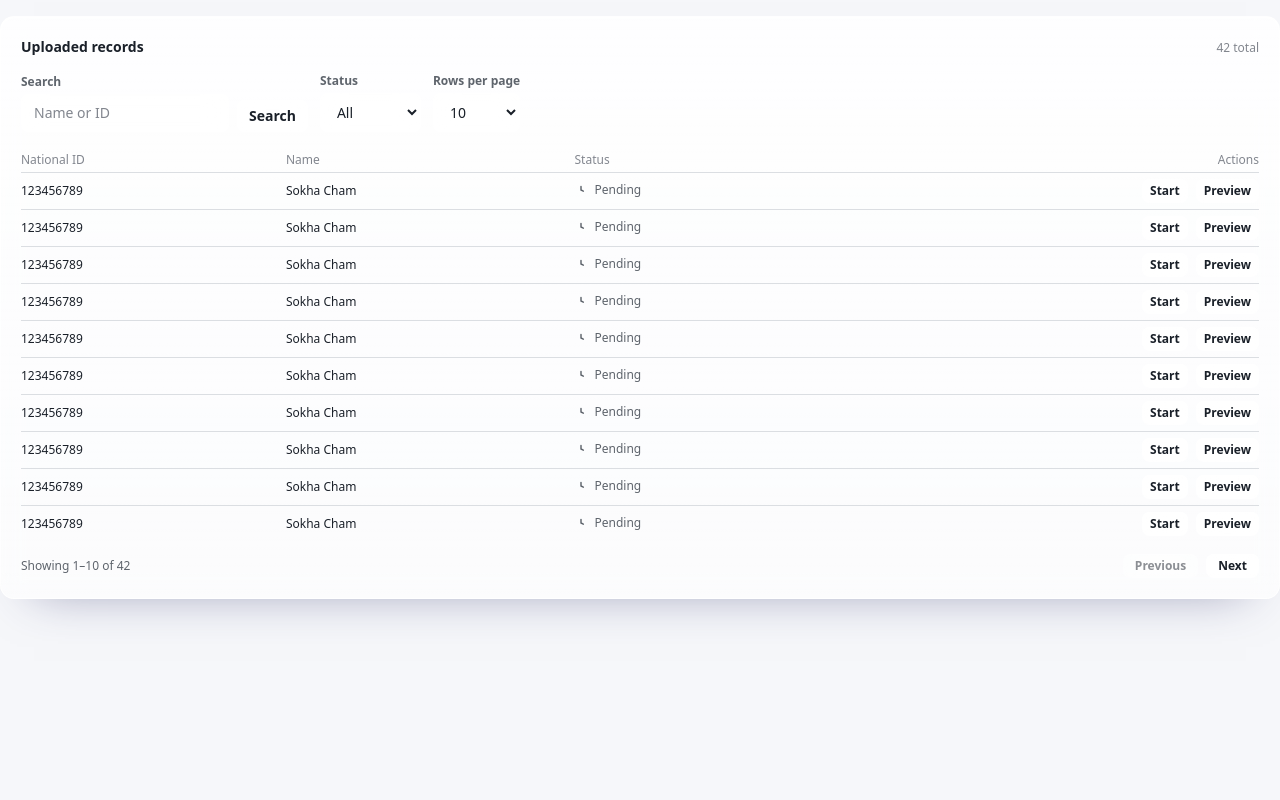
Test: UploadedRecordsList › pages through the server and says which slice is shown
The image size is (1280, 800).
Check: the text "Showing 1–10 of 42" is shown, box [21,558,130,574]
Check: the button "Previous" is disabled, box [1123,554,1198,578]
What coordinates should you click on to do the following:
click the button "Next"
I would click on:
 (1233, 566)
Its box is [1206,554,1259,578].
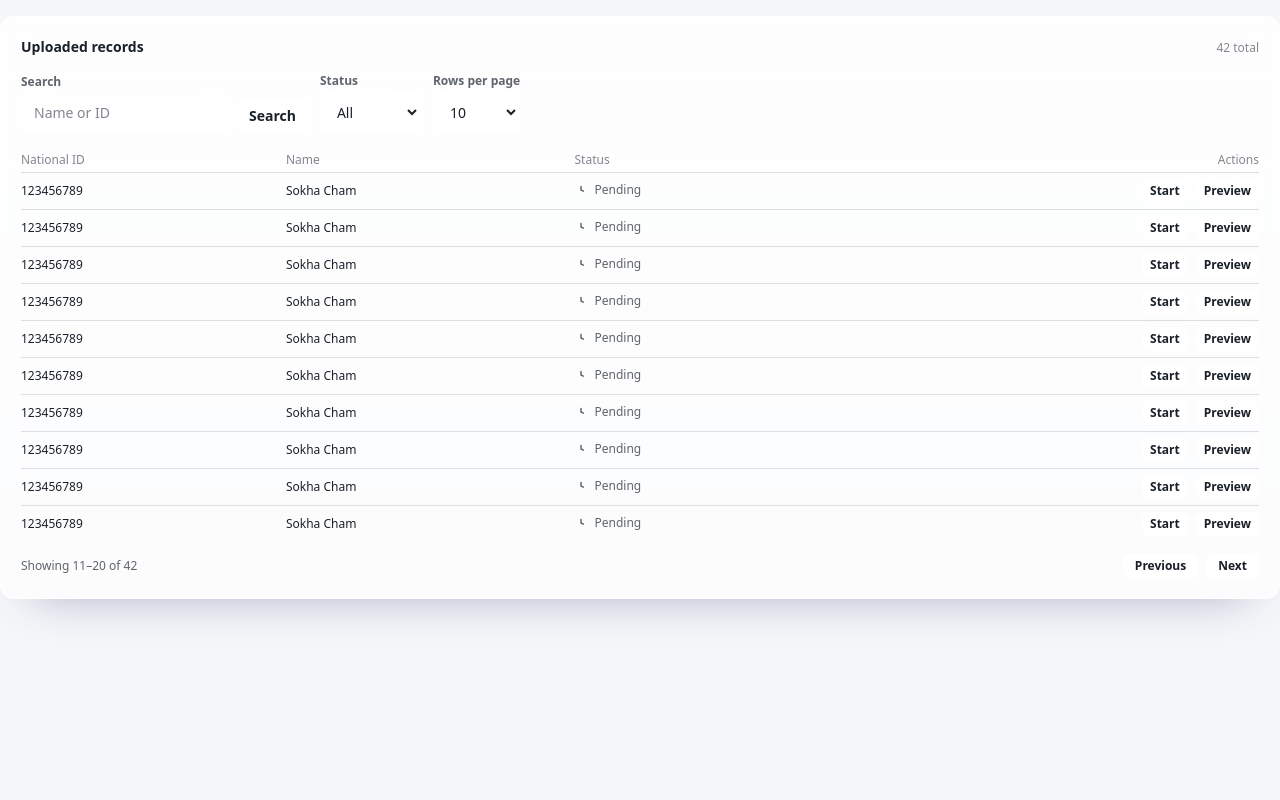
Check: the text "Showing 11–20 of 42" is shown, box [21,558,137,574]
Check: the button "Previous" is enabled, box [1123,554,1198,578]
